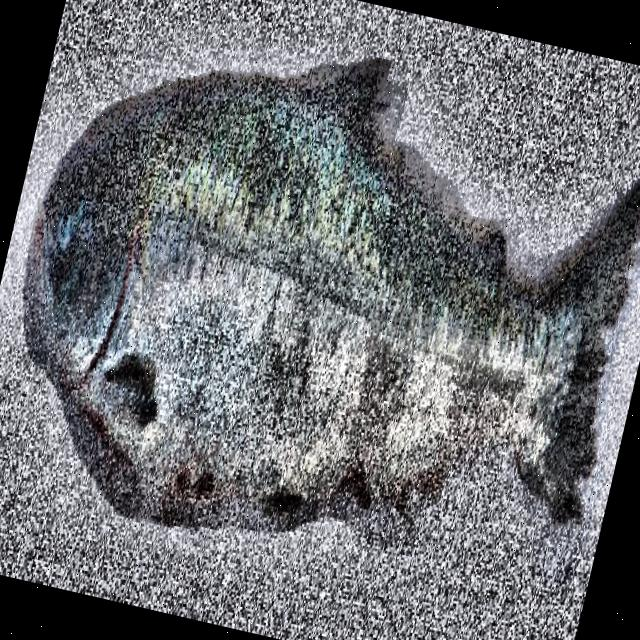mild_red: (71, 72, 584, 524), (173, 465, 214, 499), (341, 471, 368, 502), (267, 495, 304, 514)
